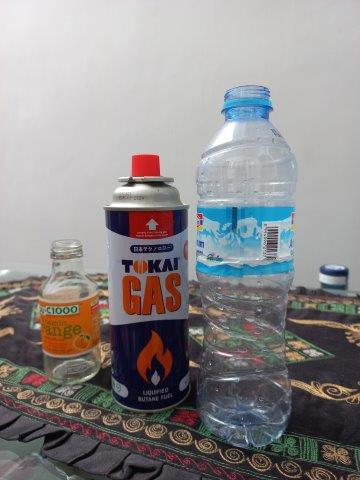botolkaca: (38, 241, 102, 383)
botolplastik: (198, 84, 297, 447)
kaleng: (106, 154, 190, 411)
